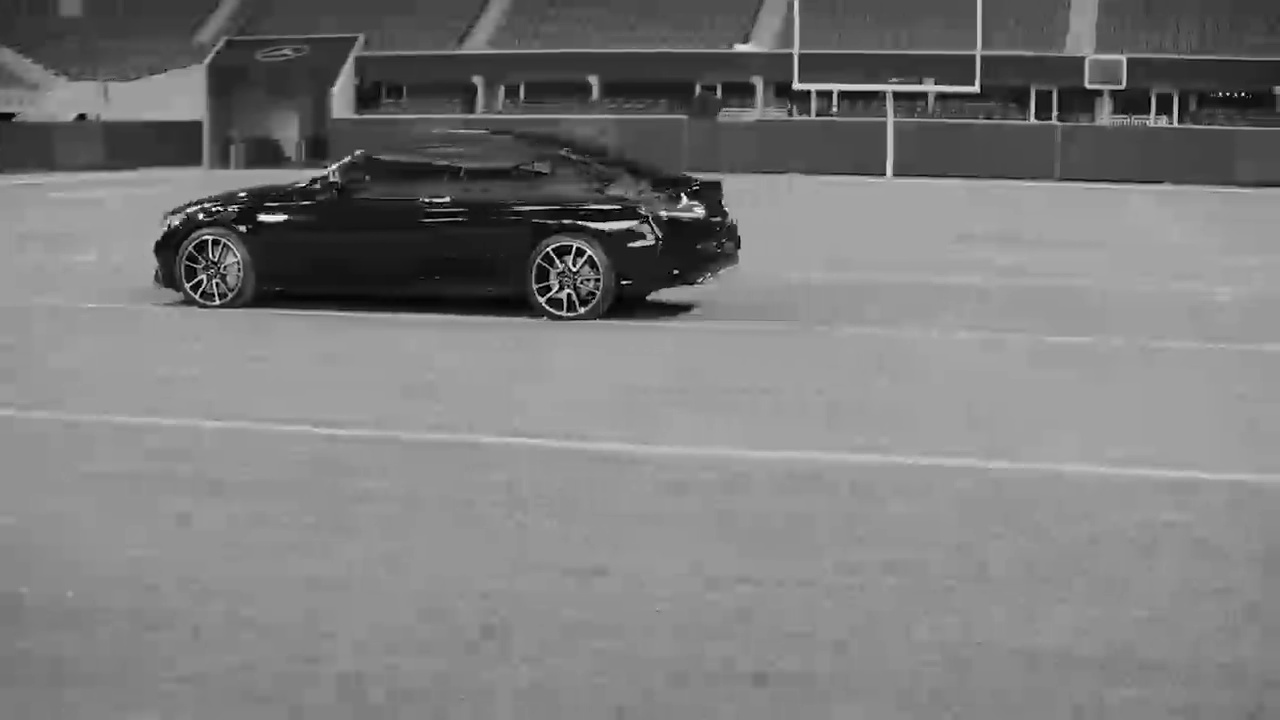car: (146, 121, 745, 320)
